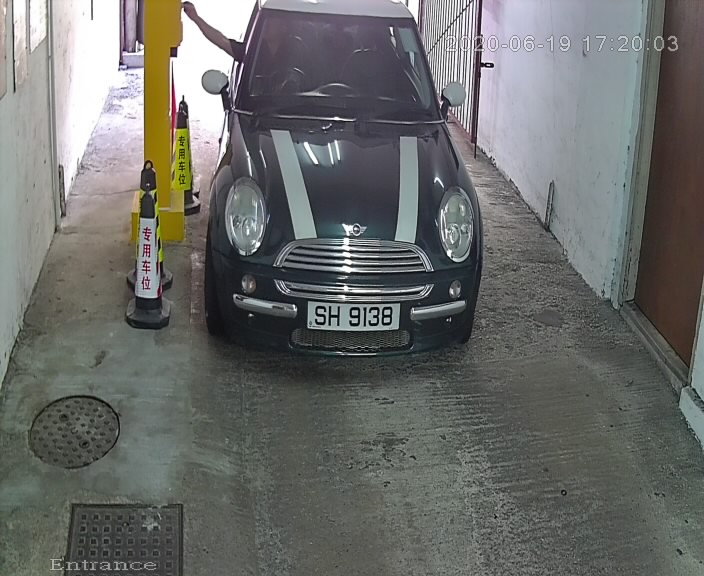privatecar: (175, 3, 500, 371)
